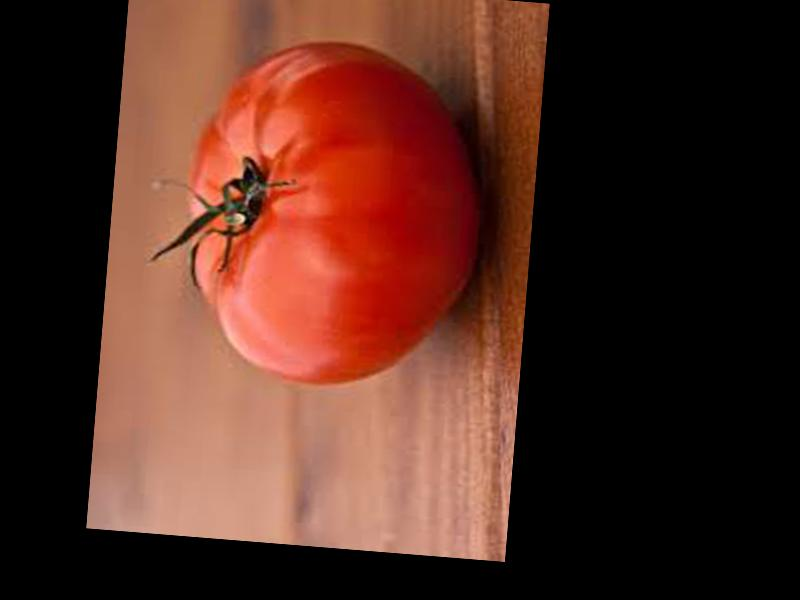Tomato: (174, 33, 492, 399)
